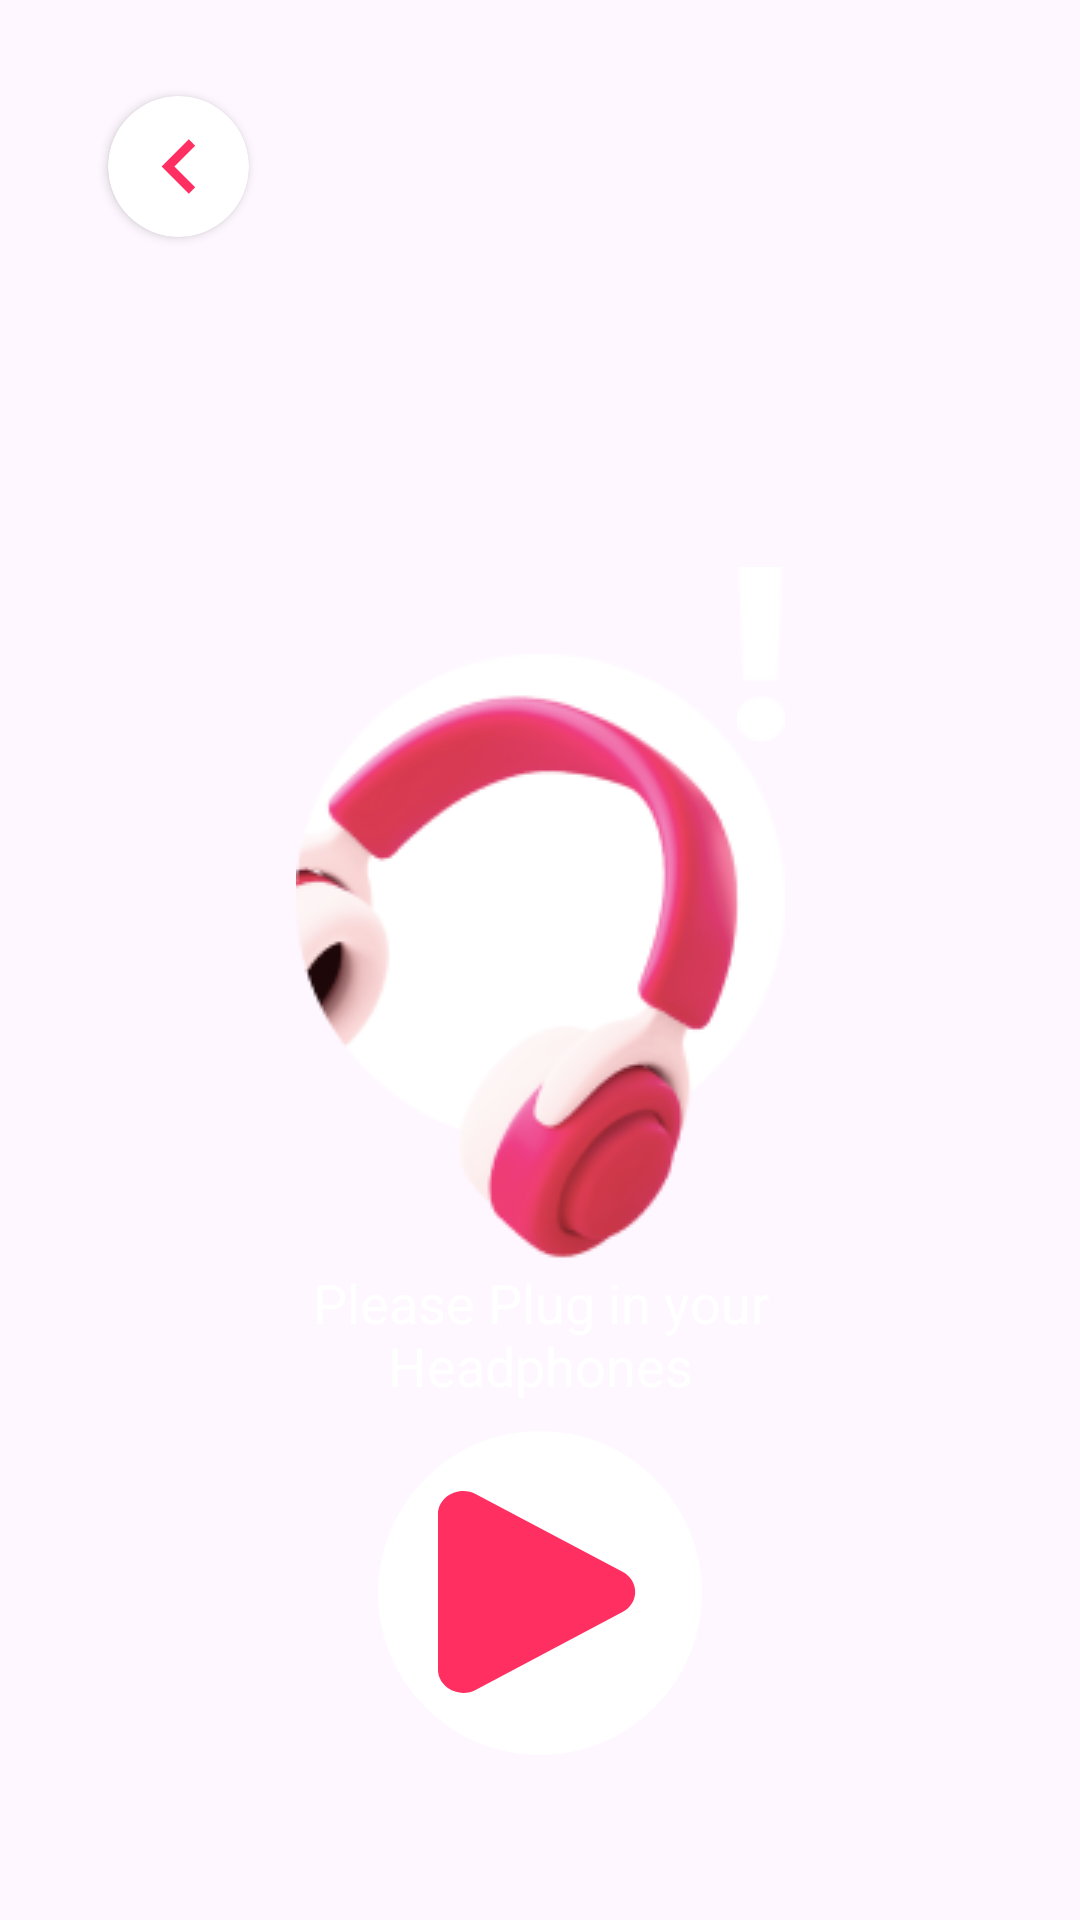

Icon click points for this 1080 × 1920 phone screenshot, format [x,y]:
back: [178,166]
play: [536,1592]
